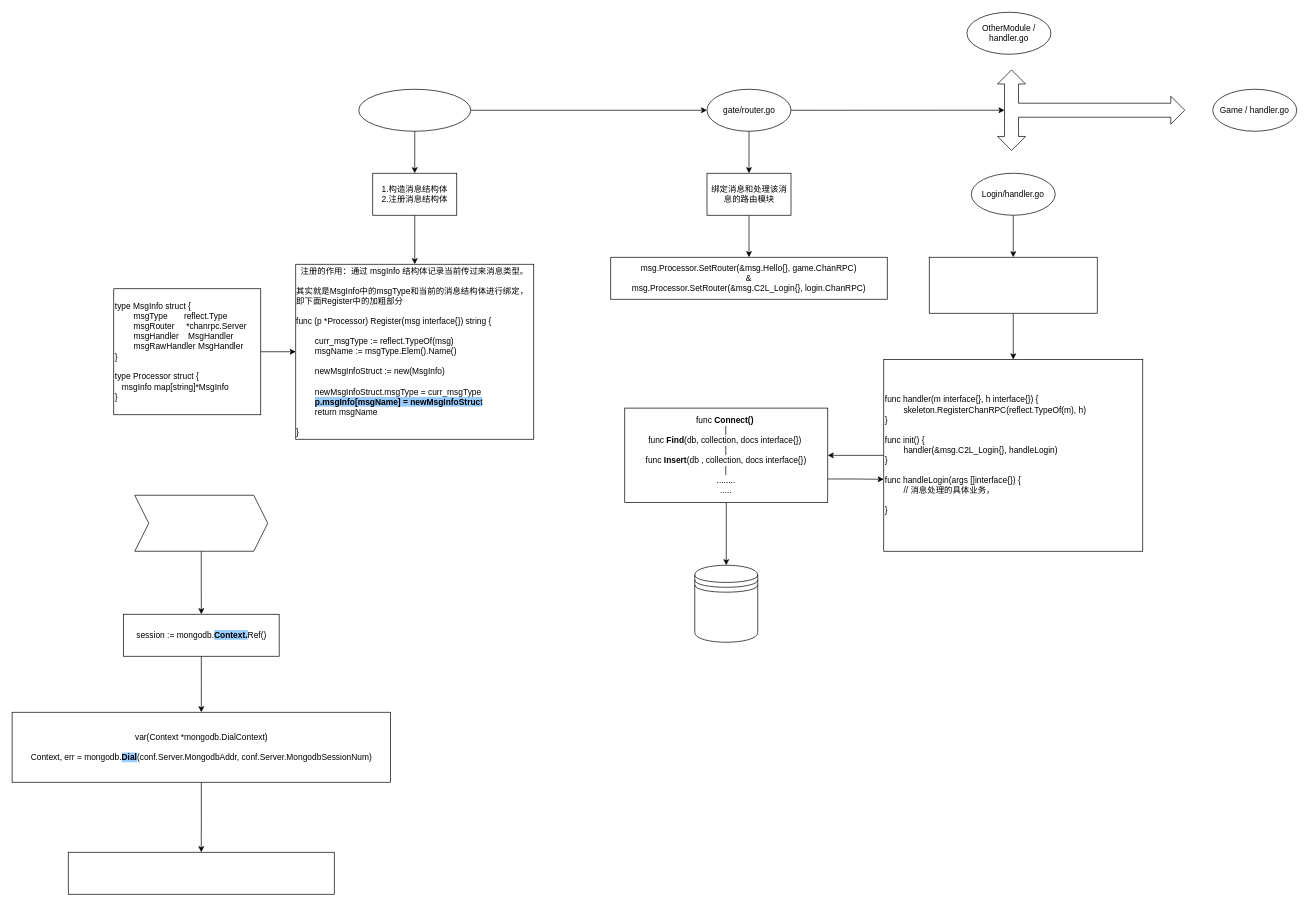
The diagram is 1310 pixels wide and 907 high, and some of its shapes have lost their labels. Here are the shapes that lost their labels. From the top down, the centre of each, then its label:
At [414,110]: "msg.go".
At [1091,109]: "Module Handler".
At [1013,285]: "1.注册(绑定)消息和模块之间的ChanRPC 2.消息处理业务".
At [201,523]: "MongoDB-Context的深入".
At [726,603]: "DB".
At [201,873]: "s, err := mgo .DialWithTimeout(url, dialTimeout)".
